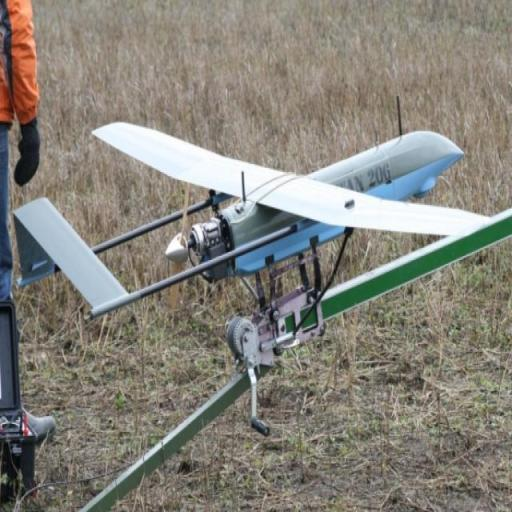uav: (16, 90, 496, 322)
